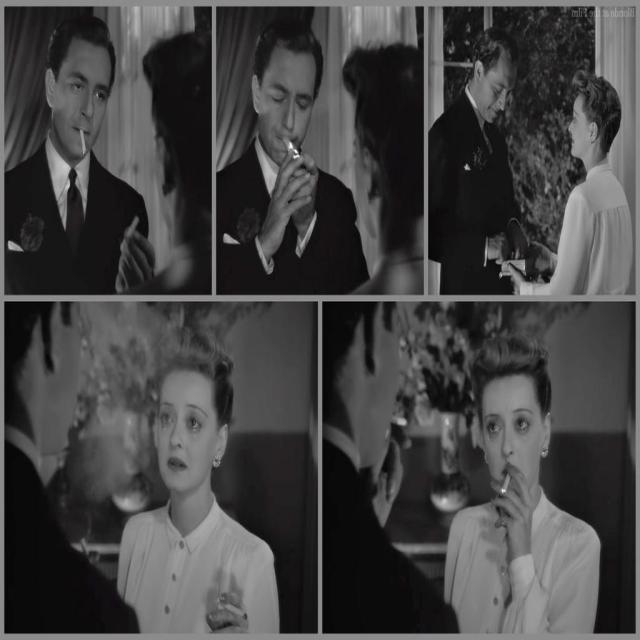smoking: (140, 314, 297, 626), (452, 330, 562, 573), (245, 18, 328, 230), (51, 39, 109, 158)
